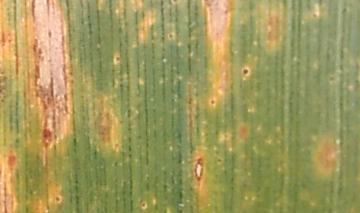tarspot: (328, 74, 340, 84), (241, 67, 250, 77), (166, 32, 177, 40), (208, 98, 217, 107), (310, 11, 319, 20), (112, 55, 122, 63), (55, 195, 63, 203), (140, 202, 147, 210)
